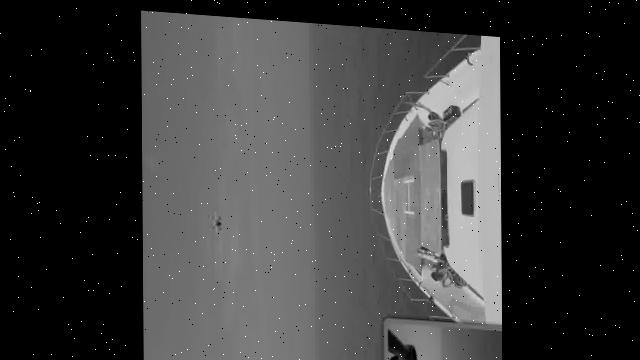drone: (203, 199, 226, 238)
